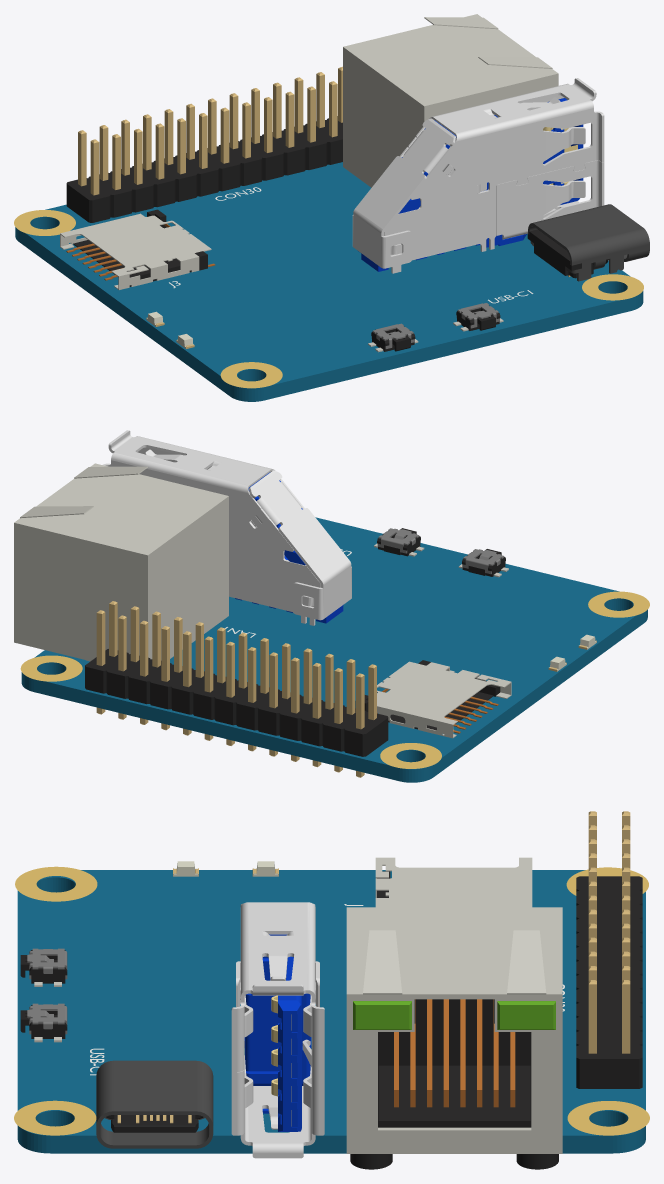
The model's file is neo3-plus-abstract.fbx.
The picture shows the model from 3 angles, top to bottom: view 1: azimuth 30°, elevation 25°; view 2: azimuth 150°, elevation 25°; view 3: azimuth 270°, elevation 25°; orthographic projection. The views are drawn at different scales.
Parts seen in each view (by area): view 1: =>[0:1:1:55], USB1, LAN1.001, CON30, CON30.001, J3, USB-C1.001, USB-C1.002, USB1.001, J3.002, HoleRing3, HoleRing2 (+2 smaller); view 2: =>[0:1:1:55], LAN1.001, USB1, CON30, CON30.001, J3, HoleRing1, HoleRing2, HoleRing0, J3.002, K1.002, K2.002 (+1 smaller); view 3: =>[0:1:1:55], LAN1.001, LAN1, USB1, CON30.001, USB-C1.001, J3, USB1.001, LAN1.003, CON30, LAN1.002, HoleRing3 (+9 smaller).
Part boxes in pixels (bbox=[...]): =>[0:1:1:55]: bbox=[15, 162, 643, 401]; USB1: bbox=[352, 78, 604, 273]; LAN1.001: bbox=[343, 14, 558, 187]; CON30: bbox=[78, 66, 342, 195]; CON30.001: bbox=[66, 116, 342, 222]; J3: bbox=[60, 213, 211, 289]; USB-C1.001: bbox=[528, 204, 649, 281]; USB-C1.002: bbox=[527, 229, 608, 278]; USB1.001: bbox=[358, 98, 583, 271]; J3.002: bbox=[73, 209, 207, 286]; HoleRing3: bbox=[582, 274, 643, 300]; HoleRing2: bbox=[220, 362, 282, 388]; =>[0:1:1:55]: bbox=[21, 517, 647, 782]; LAN1.001: bbox=[14, 463, 228, 661]; USB1: bbox=[102, 430, 351, 625]; CON30: bbox=[96, 601, 376, 777]; CON30.001: bbox=[85, 649, 388, 756]; J3: bbox=[377, 661, 511, 738]; HoleRing1: bbox=[20, 655, 82, 681]; HoleRing2: bbox=[588, 591, 649, 617]; HoleRing0: bbox=[380, 743, 441, 768]; J3.002: bbox=[355, 660, 500, 730]; K1.002: bbox=[377, 528, 420, 553]; K2.002: bbox=[462, 549, 505, 574]; =>[0:1:1:55]: bbox=[17, 870, 645, 1153]; LAN1.001: bbox=[346, 907, 562, 1153]; LAN1: bbox=[350, 999, 558, 1169]; USB1: bbox=[231, 902, 324, 1158]; CON30.001: bbox=[576, 876, 642, 1088]; USB-C1.001: bbox=[96, 1060, 213, 1148]; J3: bbox=[375, 857, 532, 907]; USB1.001: bbox=[244, 934, 311, 1131]; LAN1.003: bbox=[394, 999, 515, 1107]; CON30: bbox=[588, 811, 630, 1053]; LAN1.002: bbox=[353, 1001, 555, 1029]; HoleRing3: bbox=[14, 1100, 96, 1135].
Size of the model in its own units: 5224 by 1868 by 4860.
